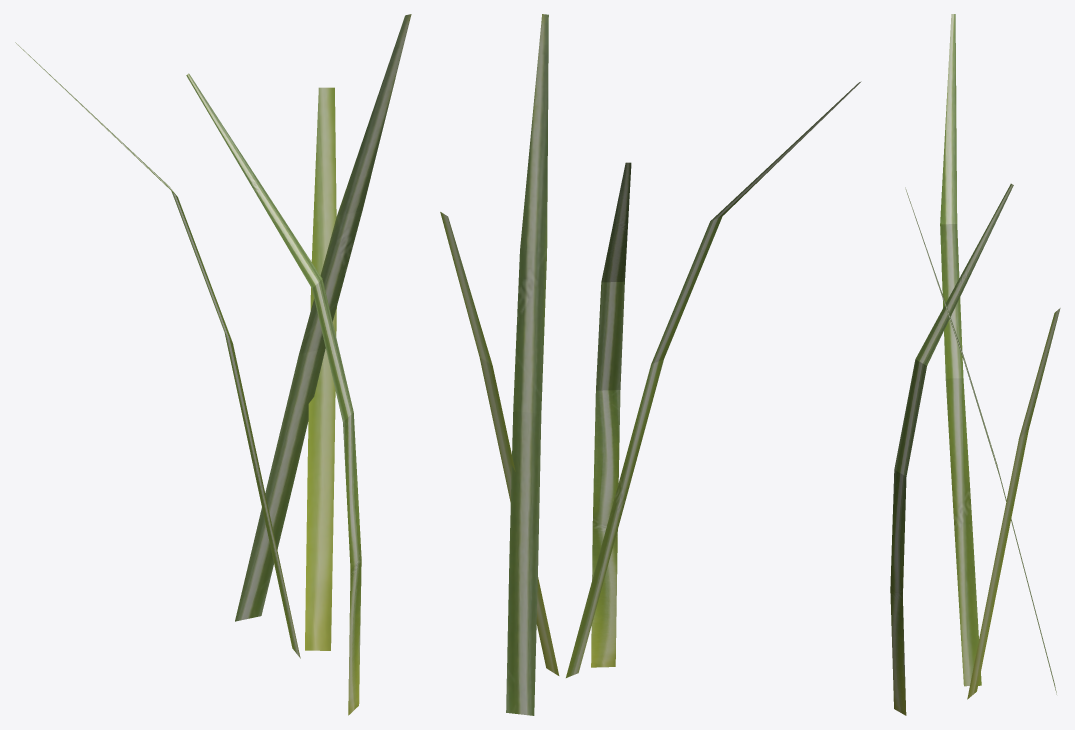
Rendered from grassparticle.obj.
3 views of the same model, side by side, from view 1: azimuth 30°, elevation 25°; view 2: azimuth 150°, elevation 25°; view 3: azimuth 270°, elevation 25° (orthographic). The views are drawn at different scales.
Visible parts, largest first — view 1: Grass3_Plane.004, Grass4_Plane.005, Grass2_Plane.003, Grass1_Plane.002; view 2: Grass3_Plane.004, Grass2_Plane.003, Grass1_Plane.002, Grass4_Plane.005; view 3: Grass1_Plane.002, Grass2_Plane.003, Grass4_Plane.005, Grass3_Plane.004.
Part boxes in pixels (<box>): Grass3_Plane.004: <box>235,14,411,621</box>; Grass4_Plane.005: <box>305,87,336,650</box>; Grass2_Plane.003: <box>186,73,361,715</box>; Grass1_Plane.002: <box>15,42,300,658</box>; Grass3_Plane.004: <box>506,14,548,715</box>; Grass2_Plane.003: <box>591,162,631,667</box>; Grass1_Plane.002: <box>566,81,861,677</box>; Grass4_Plane.005: <box>440,212,559,675</box>; Grass1_Plane.002: <box>940,14,981,686</box>; Grass2_Plane.003: <box>890,183,1013,715</box>; Grass4_Plane.005: <box>967,308,1060,699</box>; Grass3_Plane.004: <box>905,187,1056,694</box>.
Bounding box in the file's own units: 0.5592 × 1 × 0.2676.
